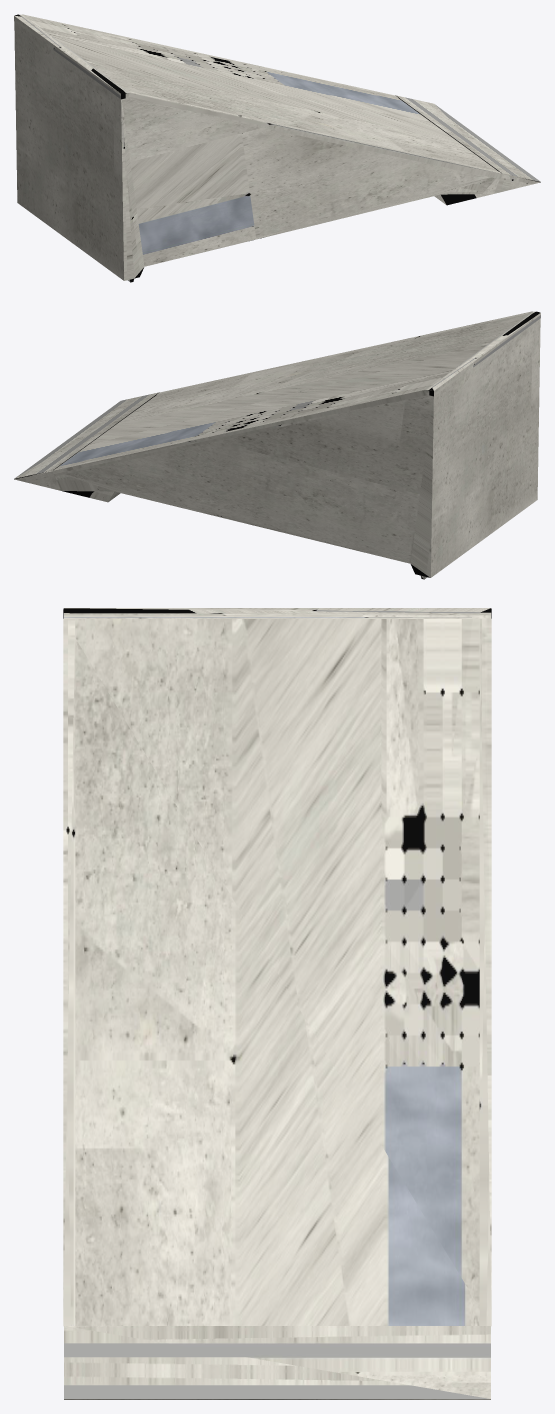
File: bank-125.gltf
3 views of the same model, one above another, from view 1: azimuth 30°, elevation 25°; view 2: azimuth 150°, elevation 25°; view 3: azimuth 270°, elevation 25° (orthographic). The views are drawn at different scales.
Visible parts, largest first — view 1: SK1160_Bank_125.001; view 2: SK1160_Bank_125.001; view 3: SK1160_Bank_125.001.
Boxes of the visible parts, <box> form: SK1160_Bank_125.001: <box>14,14,540,282</box>; SK1160_Bank_125.001: <box>14,311,540,579</box>; SK1160_Bank_125.001: <box>63,608,491,1399</box>.
Size of the model in its own units: 2.83 by 1.23 by 1.25.
